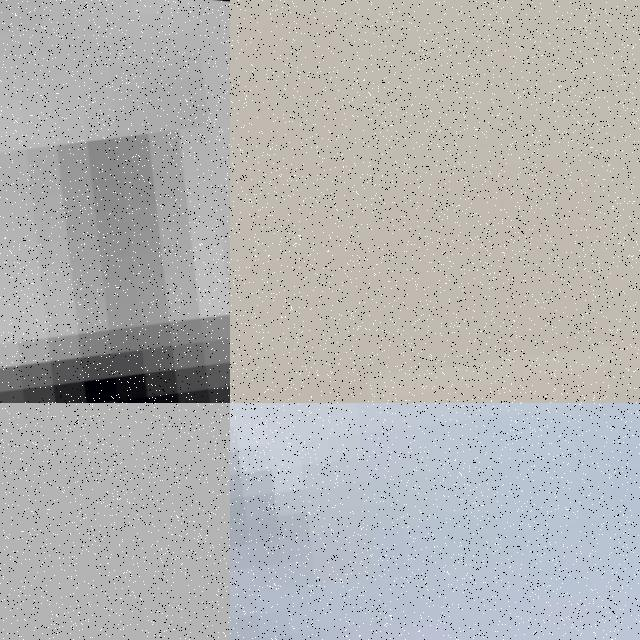0: (230, 0, 640, 403), (0, 0, 230, 403)
drone: (230, 403, 640, 640)
